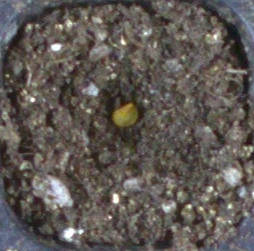pepper seed: (41, 37, 181, 167)
